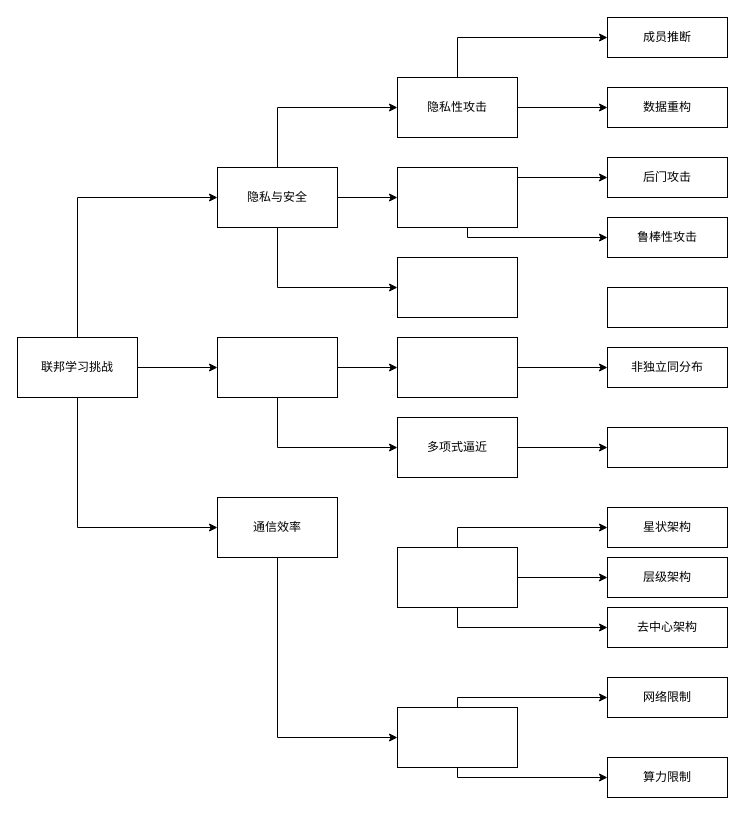
This 745x815 diagram has some shape labels left out. The centre of each missing label's shape, as x and y in pixels:
"加密运算" belongs at pixel 667 447.
"安全性攻击" belongs at pixel 457 197.
"对抗样本" belongs at pixel 667 307.
"性能降级" belongs at pixel 277 367.
"拓扑复杂性" belongs at pixel 457 577.
"统计异质性" belongs at pixel 457 367.
"设备异质性" belongs at pixel 457 737.
"逃逸(对抗)攻击" belongs at pixel 457 287.
